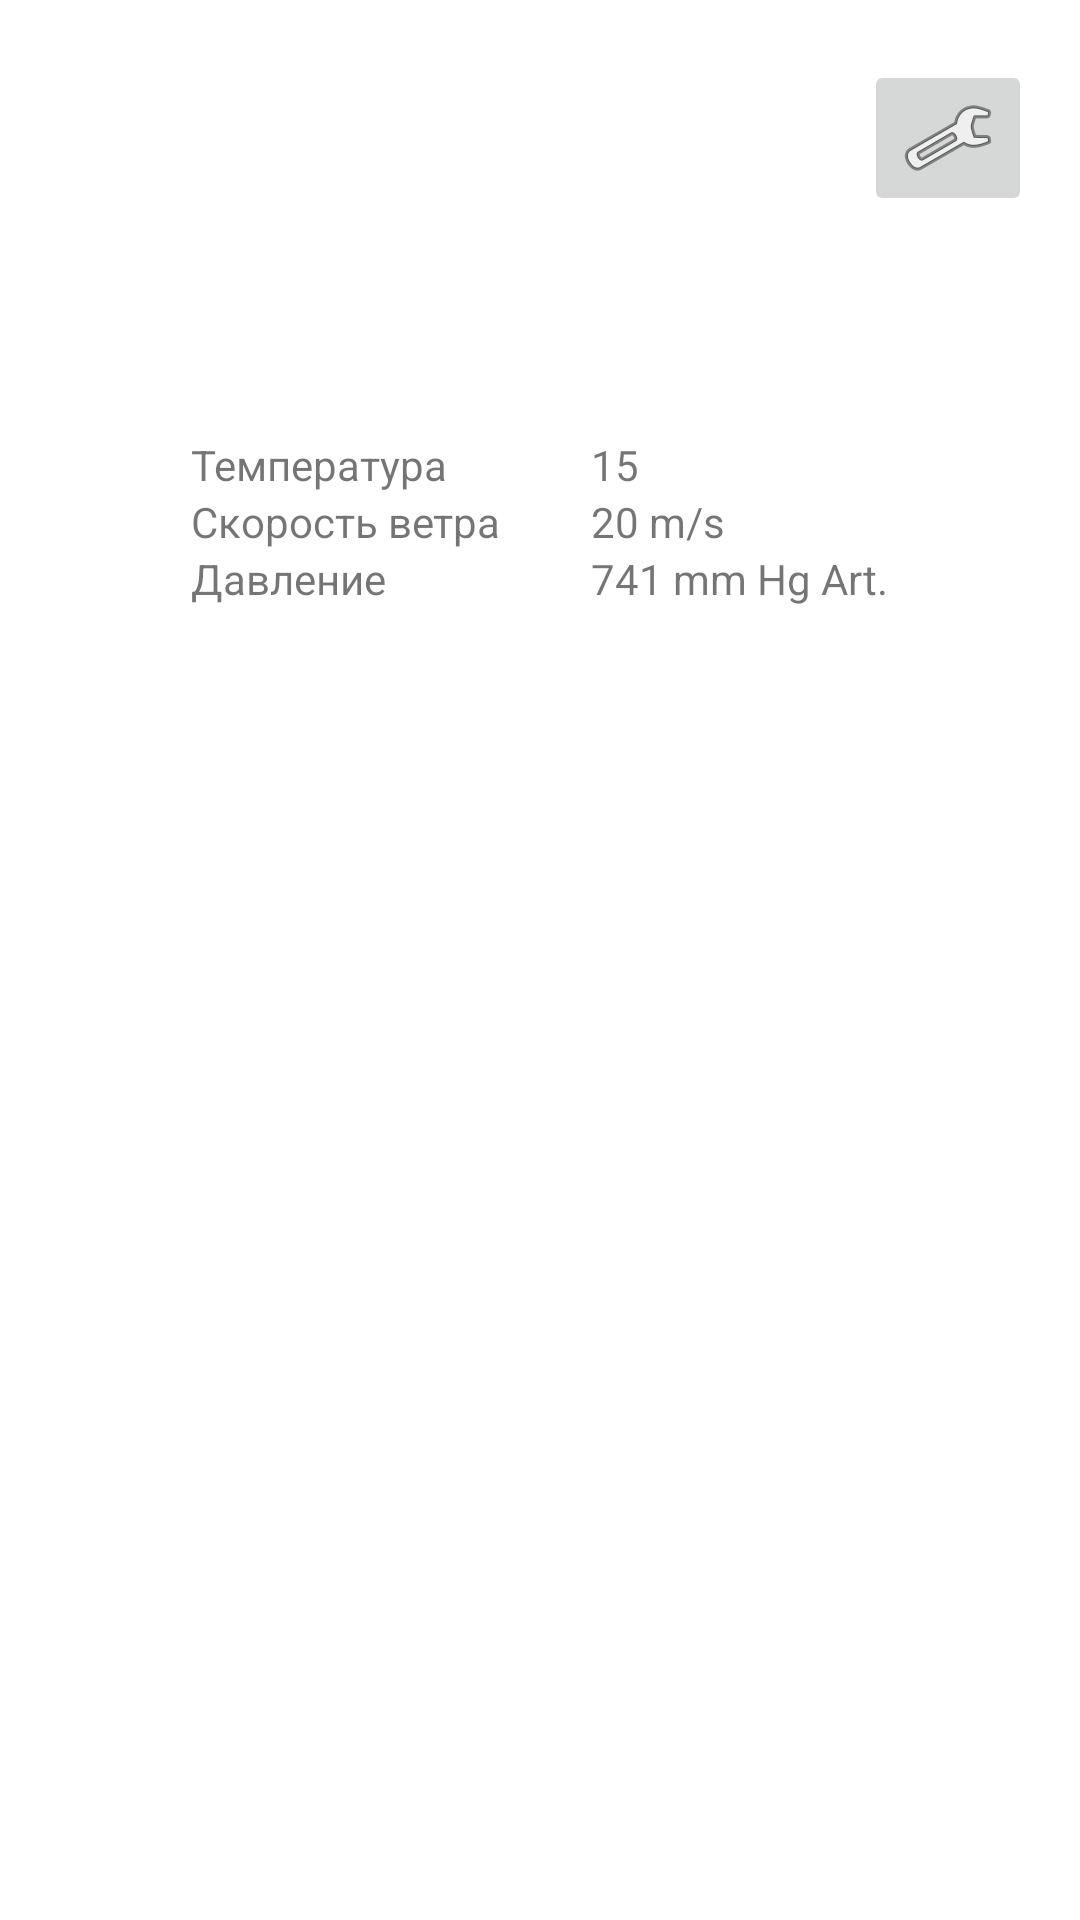

Where icons sit on this 1080w x 1920h app screen, as rect(x1, y1, x2, y2):
manage: rect(876, 78, 1020, 198)
